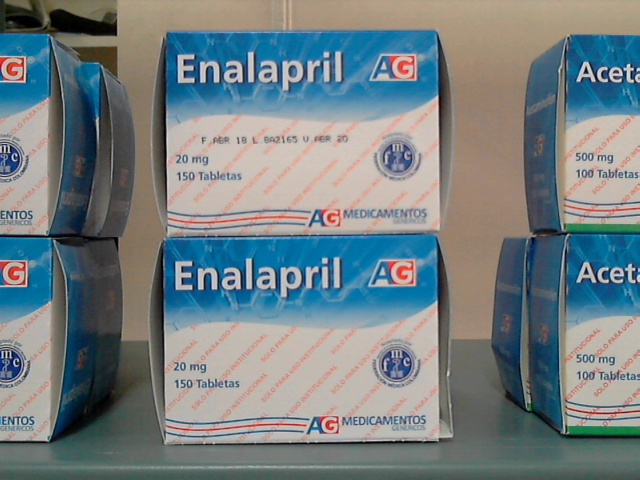AG: (164, 238, 438, 440), (165, 31, 439, 231)
